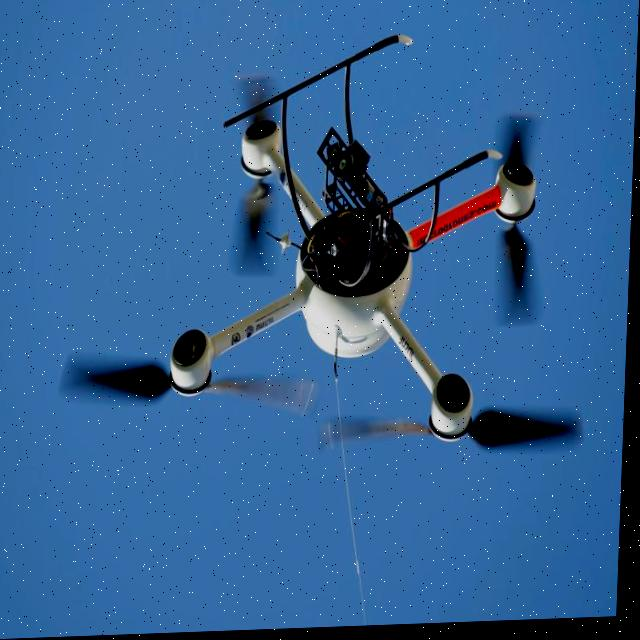drone: (59, 60, 619, 483)
